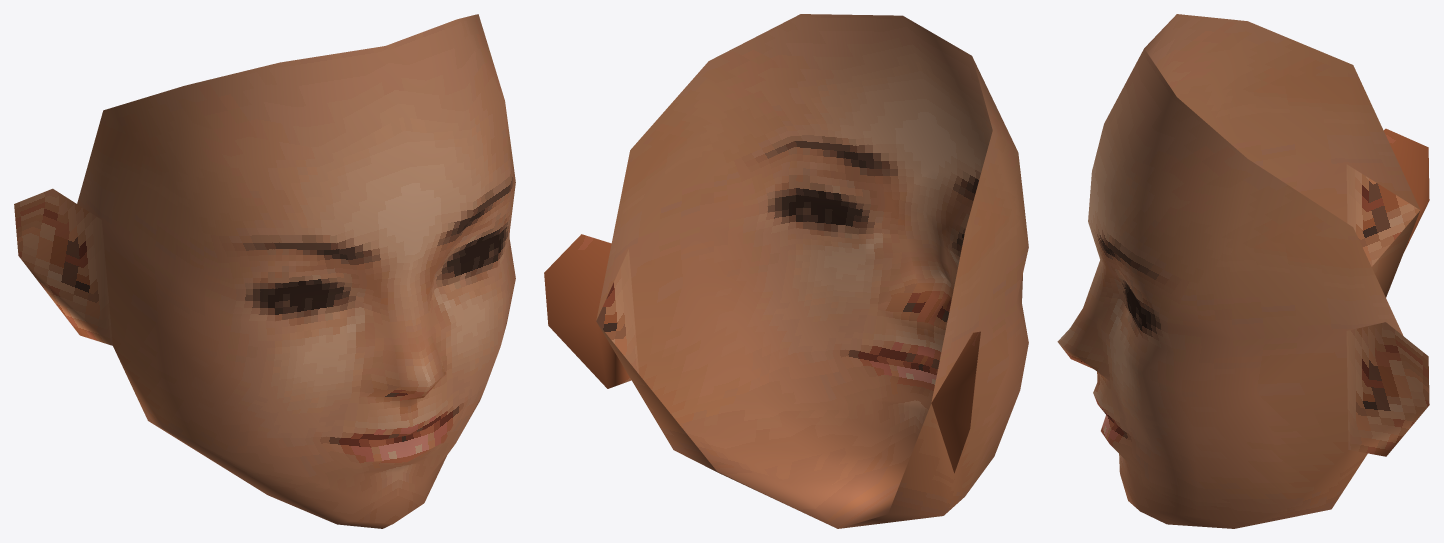
The picture shows the model from 3 angles, left to right: view 1: azimuth 30°, elevation 25°; view 2: azimuth 150°, elevation 25°; view 3: azimuth 270°, elevation 25°; orthographic projection. The views are drawn at different scales.
Size of the model in its own units: 19.4 by 20.15 by 14.6.
Materials: 1 (1 with a texture image).
